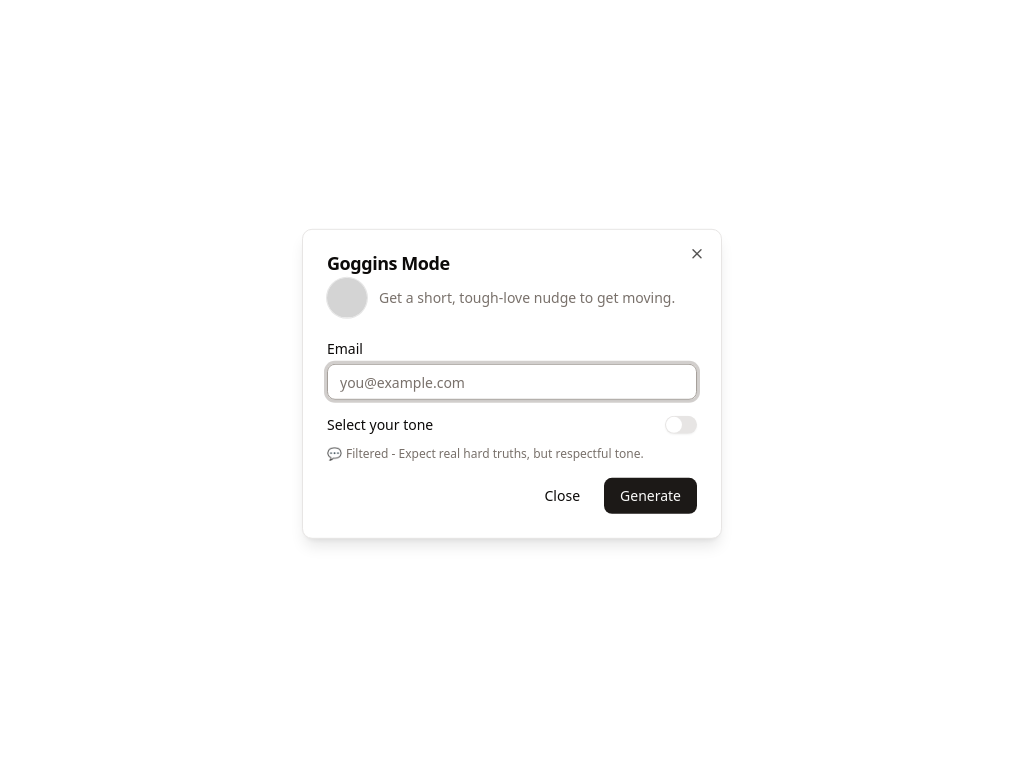
Test: GogginsDialog - rate limit paths › screams left: no countdown
Type "rl@test.com" into the field labelled "Email". click: (512, 382)
box: [327,364,697,400]
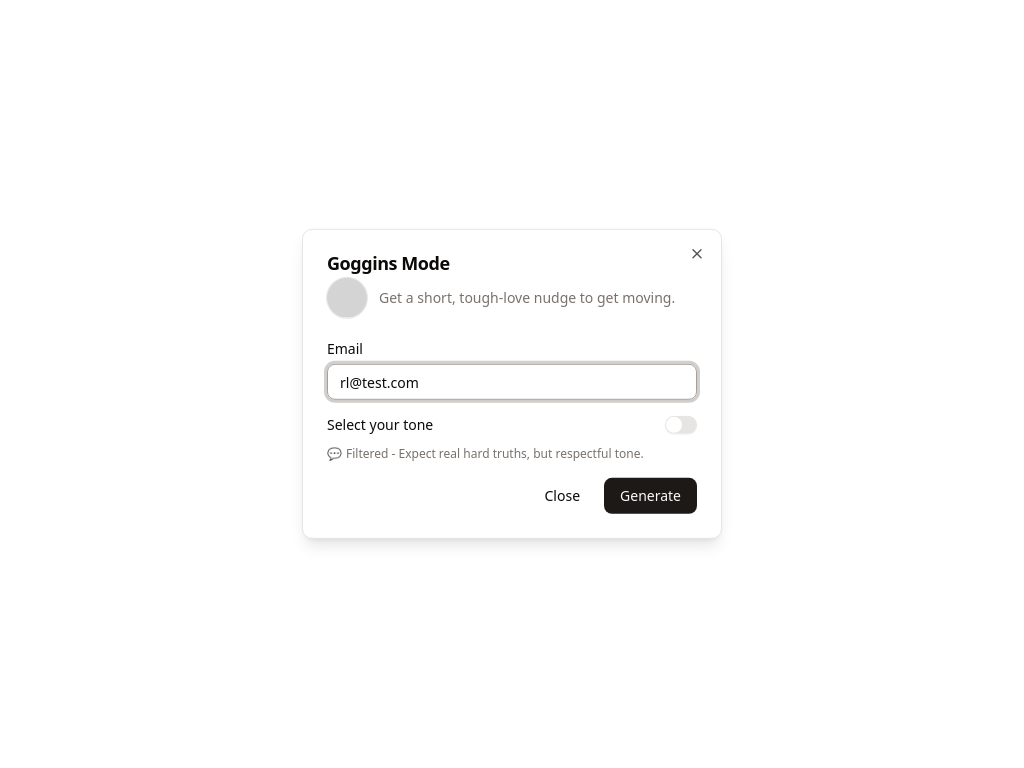
Click the button "Generate". click: click(650, 496)
box: [604,478,697,514]
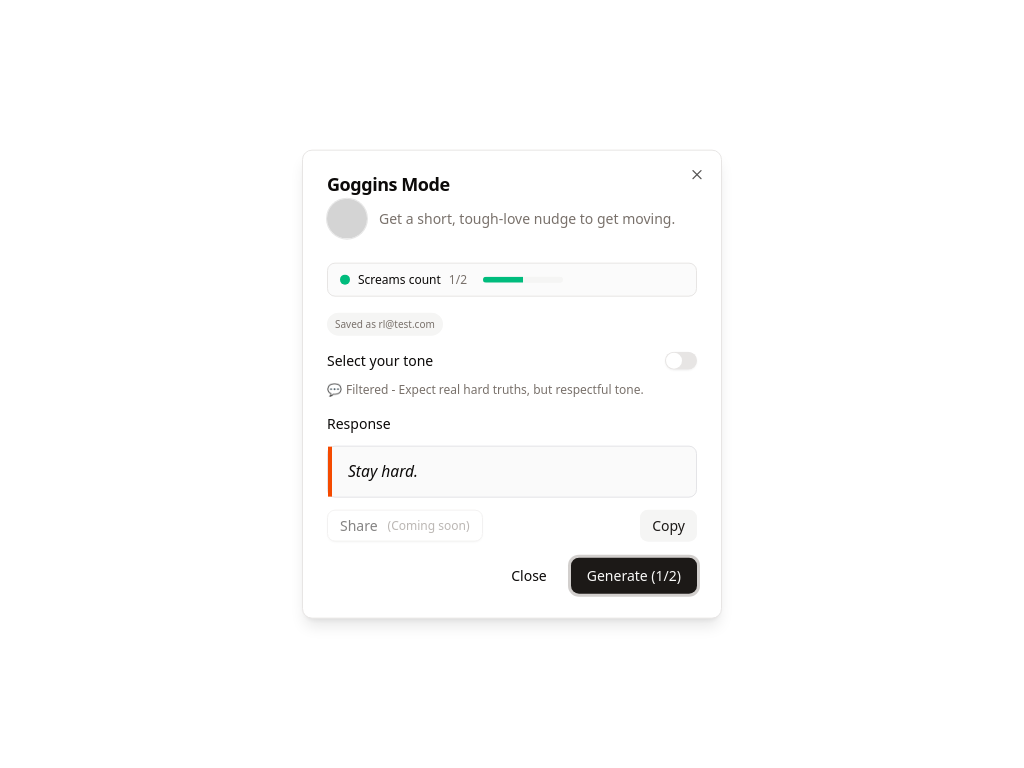
Expected: the button "Generate (1/2)" is enabled, [571,557,697,593]
Expected: the text "Stay hard." is shown, [348,460,418,482]
